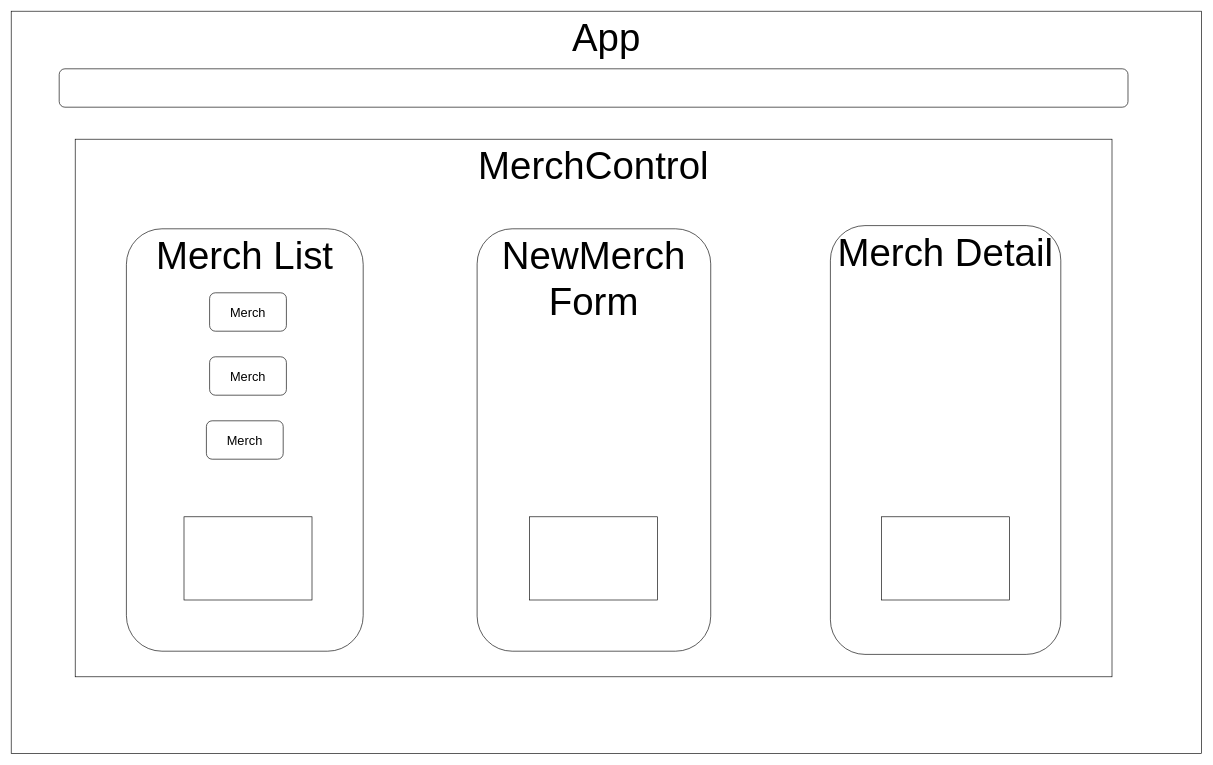
This 1213x765 diagram has some shape labels left out. The shapes that lost their labels are listed below. From the top down, each one's centre as x and y in pixels, then its label:
pixel 593 87: Navbar
pixel 247 558: Add merch
pixel 593 558: Submit
